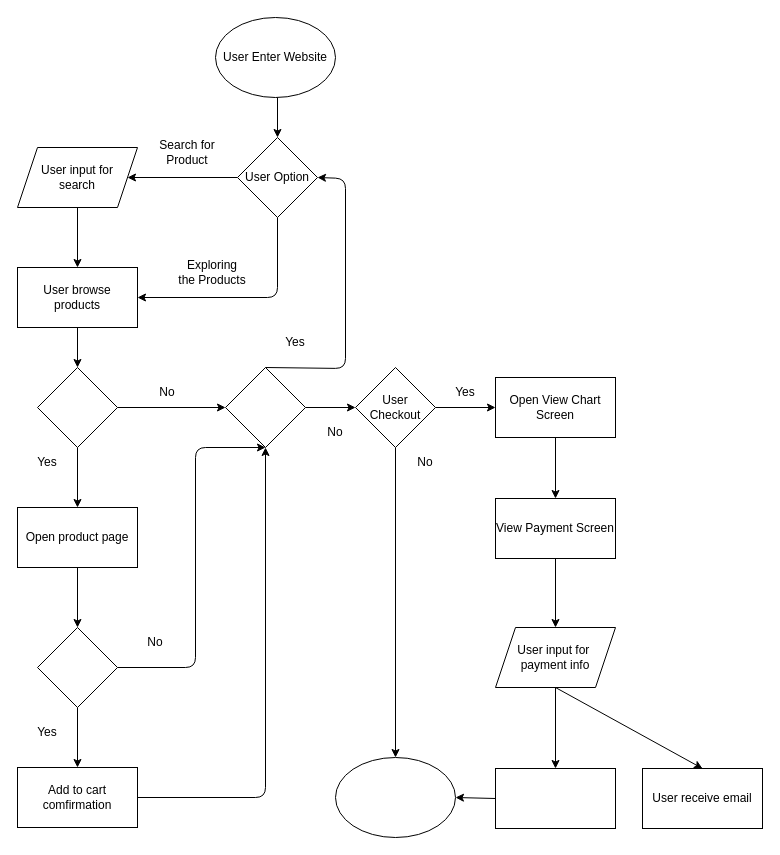
The diagram is 780 pixels wide and 855 high, and some of its shapes have lost their labels. The centre of each missing label's shape, as x and y in pixels:
Open Order Confirmation Screen: point (555, 798)
User add item to cart: point (77, 667)
User continue shopping: point (265, 407)
User Leave Website: point (395, 797)
User views a product: point (77, 407)
